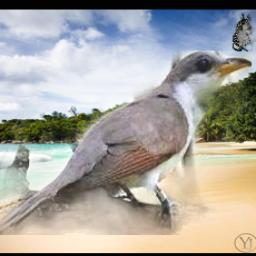Cuckoo: (0, 50, 253, 235)
Woodpecker: (232, 13, 256, 52)
